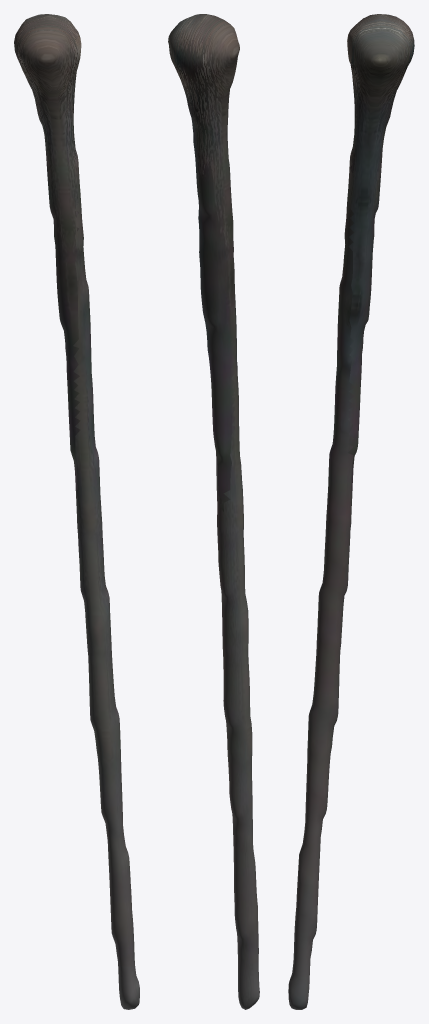
Rendered from kfl-2235.glb.
The picture shows the model from 3 angles, left to right: view 1: azimuth 90°, elevation 25°; view 2: azimuth 150°, elevation 25°; view 3: azimuth 270°, elevation 25°; orthographic projection. The views are drawn at different scales.
Visible parts, largest first — view 1: geometry_0; view 2: geometry_0; view 3: geometry_0.
Boxes of the visible parts, x1,y1,x2,y2 form: geometry_0: [14, 14, 139, 1009]; geometry_0: [168, 14, 259, 1009]; geometry_0: [288, 14, 414, 1009].
Size of the model in its own units: 0.0663 by 0.9886 by 0.1137.
1 material, 1 textured.
